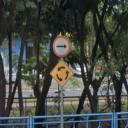Rotatoria: (48, 58, 74, 88)
